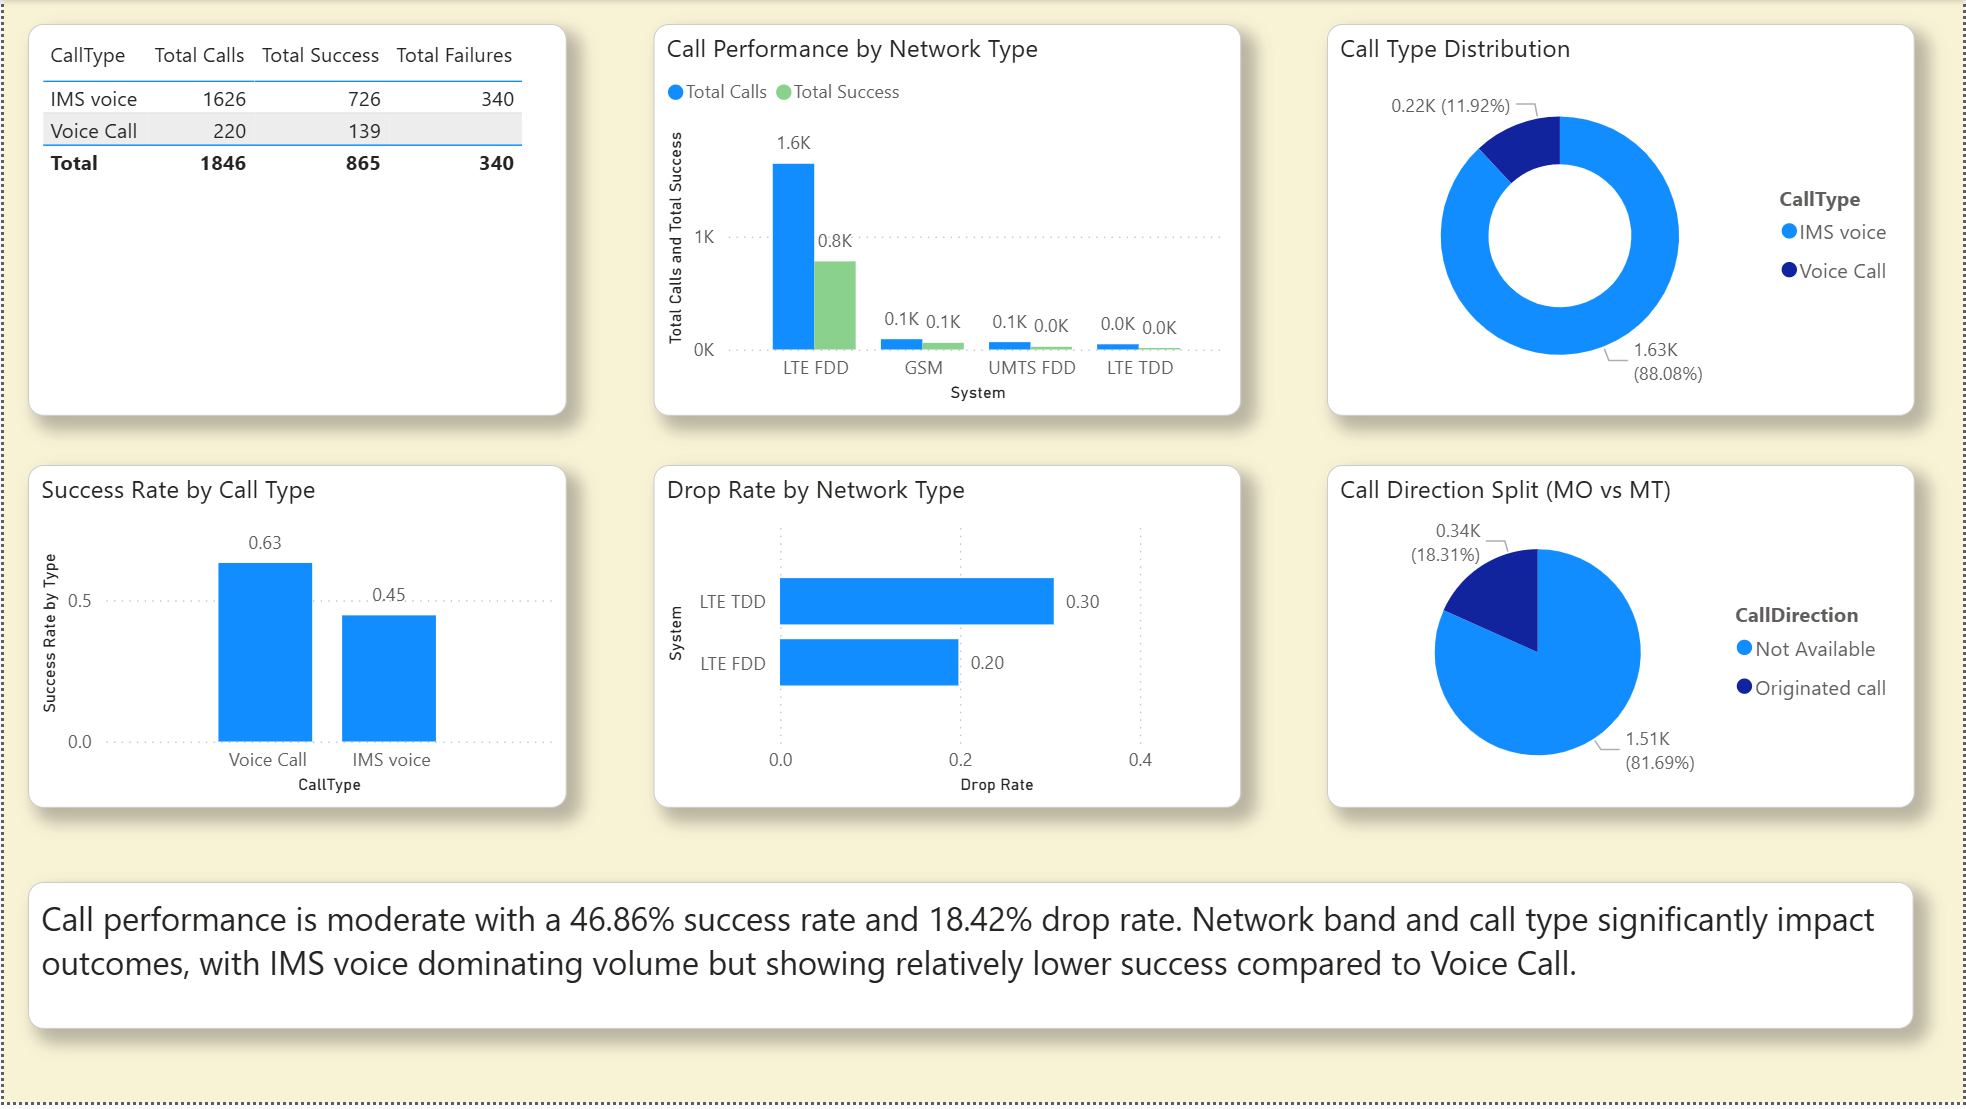

Layout of this report page (visuals, bound fields, positions):
{"tool":"powerbi","page":{"name":"Page 2","canvas":[1280,720],"ordinal":1},"visuals":[{"type":"barChart","title":"Drop Rate by Network Type","fields":{"Category":["Voice_Call_Data.System"],"Y":["CallConnected.Drop Rate"]},"box":[424,304,384,224],"z":0},{"type":"donutChart","title":"Call Type Distribution","fields":{"Category":["Voice_Call_Data.CallType"],"Y":["CountNonNull(Voice_Call_Data.EventID)"]},"box":[864,16,384,256],"z":1000},{"type":"clusteredColumnChart","title":"Success Rate by Call Type","fields":{"Category":["Voice_Call_Data.CallType"],"Y":["Voice_Call_Data.Success Rate by Type"]},"box":[16,304,352,224],"z":2000},{"type":"tableEx","fields":{"Values":["Voice_Call_Data.CallType","CallConnected.Total Calls","CallConnected.Total Success","CallConnected.Total Failures"]},"box":[16,16,352,256],"z":3000},{"type":"clusteredColumnChart","title":"Call Performance by Network Type","fields":{"Category":["Voice_Call_Data.System"],"Y":["CallConnected.Total Calls","CallConnected.Total Success"]},"box":[424,16,384,256],"z":4000},{"type":"pieChart","title":"Call Direction Split (MO vs MT)","fields":{"Category":["Voice_Call_Data.CallDirection"],"Y":["CountNonNull(Voice_Call_Data.EventID)"]},"box":[864,304,384,224],"z":5000},{"type":"textbox","box":[16,576,1232,96],"z":6000}]}

Visuals, with their boxes in screenshot pixels (x1, y1, x2, y2), scaled from the page's 1280x720 canvas onto the 1966x1109 screenshot:
"Drop Rate by Network Type" barChart: [651,468,1241,813]
"Call Type Distribution" donutChart: [1327,25,1917,419]
"Success Rate by Call Type" clusteredColumnChart: [25,468,565,813]
tableEx - Voice_Call_Data.CallType x CallConnected.Total Calls: [25,25,565,419]
"Call Performance by Network Type" clusteredColumnChart: [651,25,1241,419]
"Call Direction Split (MO vs MT)" pieChart: [1327,468,1917,813]
textbox: [25,887,1917,1035]
